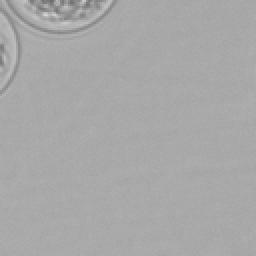picoshell: (2, 0, 114, 36), (0, 8, 20, 94)
